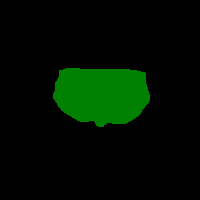mutande: (53, 68, 150, 127)
